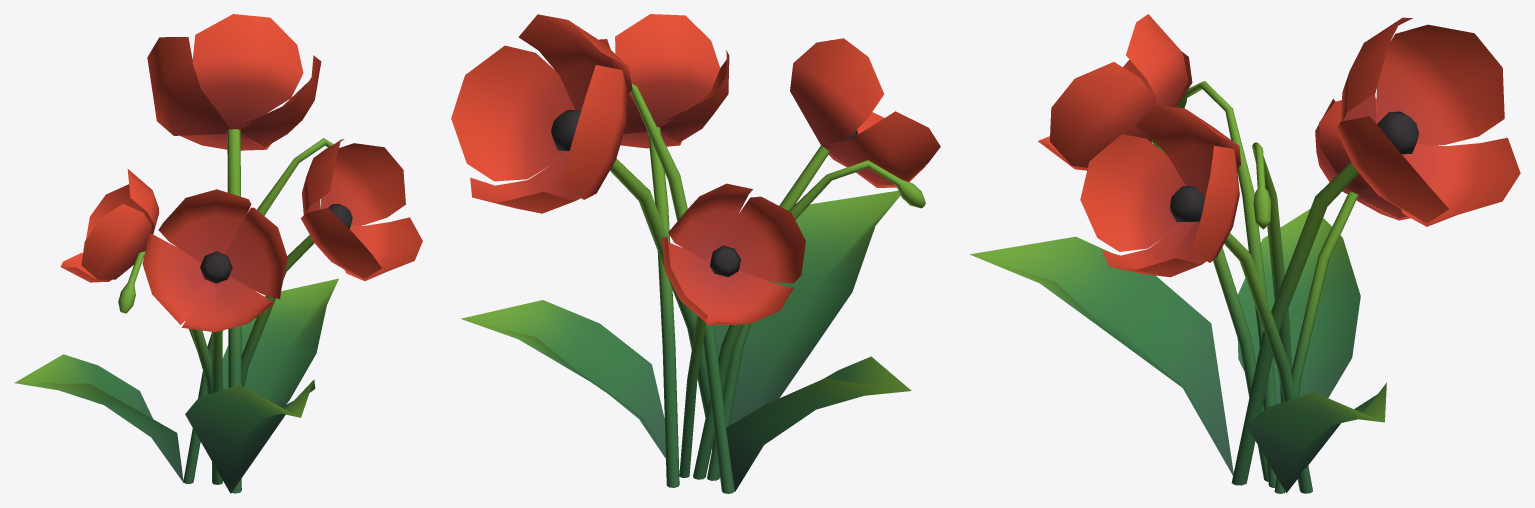
The model's file is Flower_Decoration_02.fbx.
3 views of the same model, side by side, from view 1: azimuth 30°, elevation 25°; view 2: azimuth 150°, elevation 25°; view 3: azimuth 270°, elevation 25° (orthographic). The views are drawn at different scales.
Parts seen in each view (by area): view 1: Flower.029; view 2: Flower.029; view 3: Flower.029.
Part boxes in pixels (left/top/right/bottom): Flower.029: left=14, top=14, right=422, bottom=493; Flower.029: left=451, top=14, right=940, bottom=493; Flower.029: left=969, top=14, right=1520, bottom=493.
Bounding box in the file's own units: 266 × 295 × 293.
